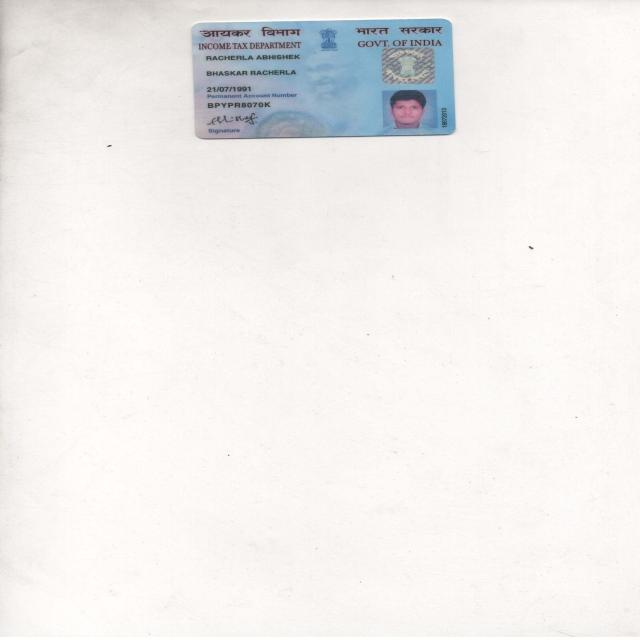pan_card: (191, 19, 457, 140)
